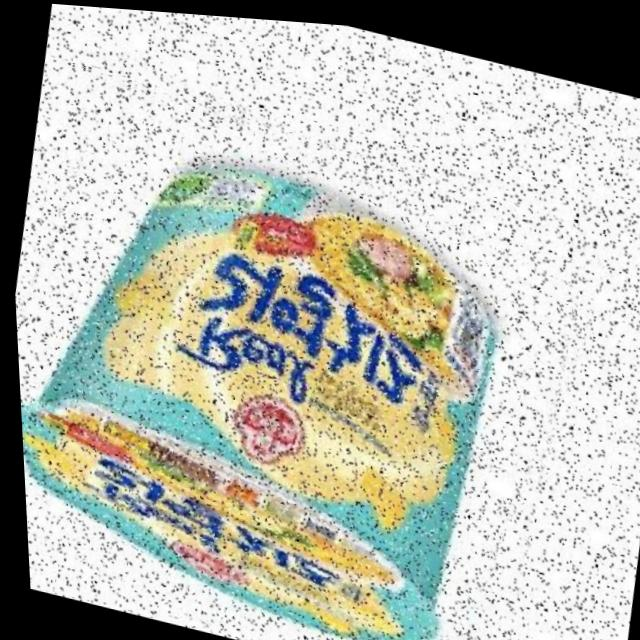Miscellaneous: (2, 52, 615, 640)
